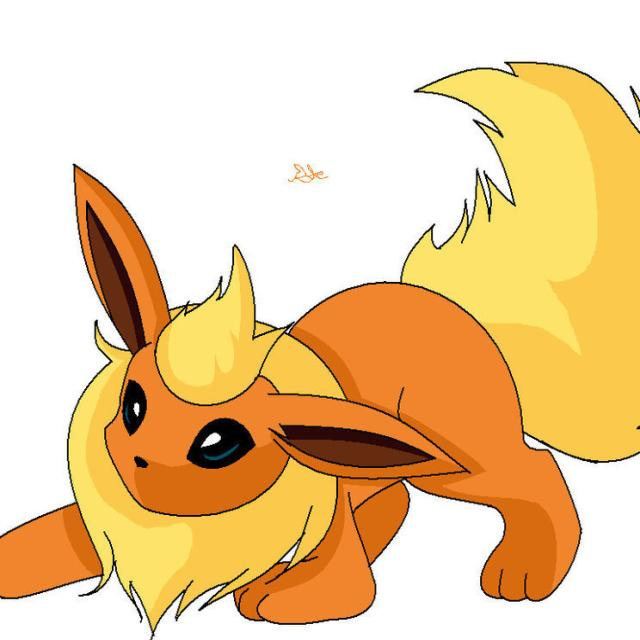Flareon: (66, 224, 564, 611)
